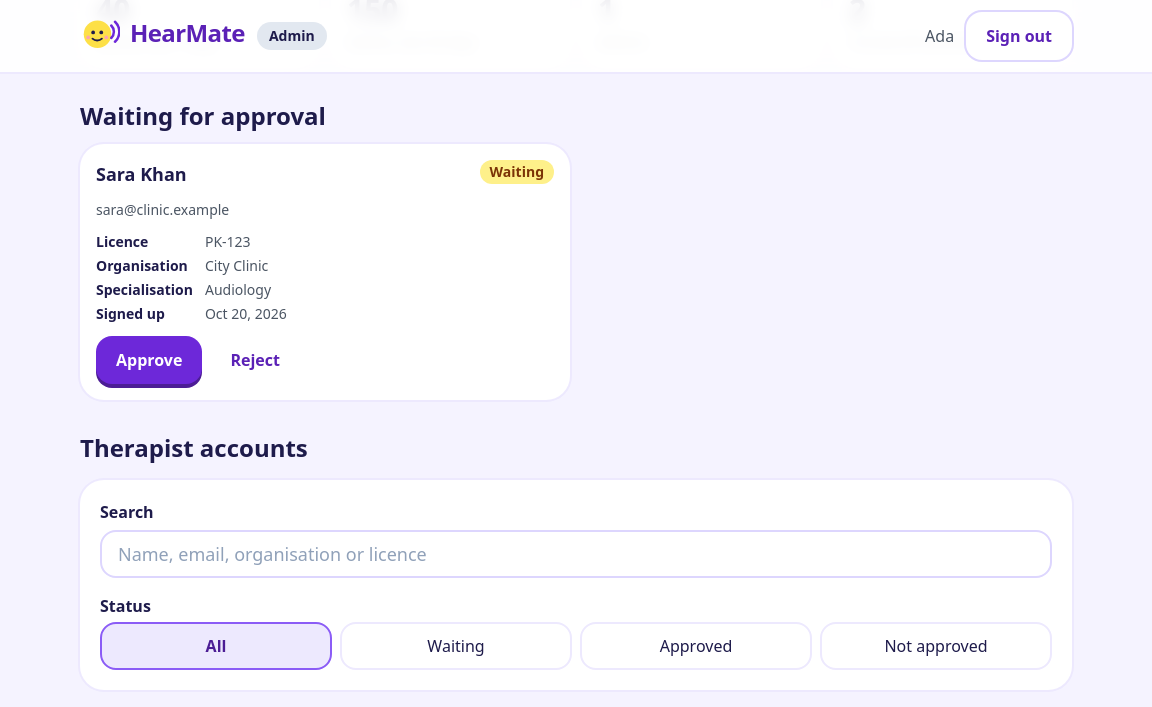
it: Admin dashboard › approves a therapist
The width and height of the screenshot is (1152, 707).
(page scrolled)
Click the button with aria-label "Approve Sara Khan": x=149, y=360 [96,336,202,384]
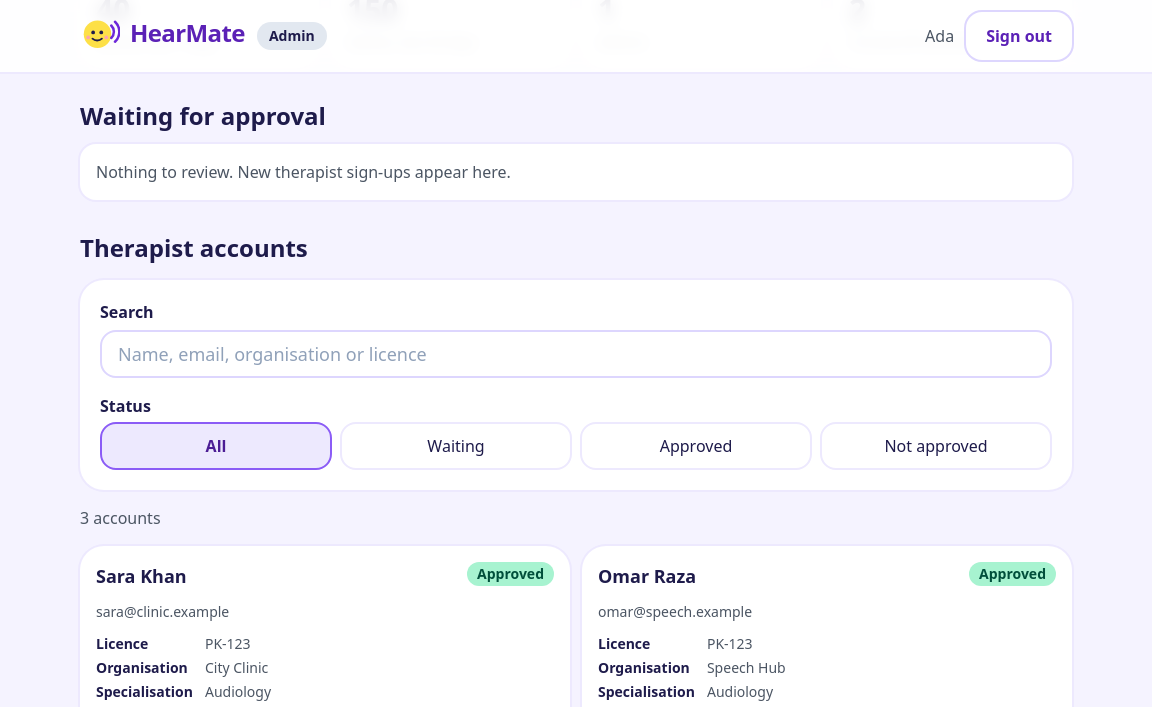
Now the text "Nothing to review. New therapist sign-ups appear here." is shown, box [80,144,1072,200]
